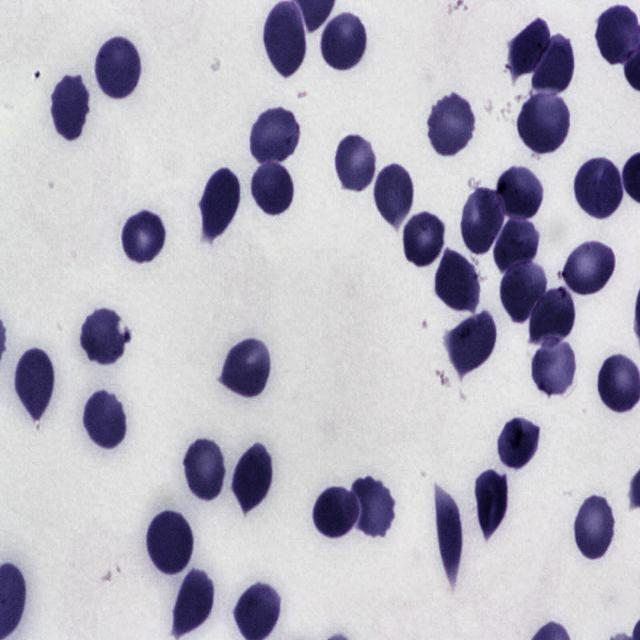red blood cell: (558, 236, 620, 297), (424, 92, 478, 158), (445, 311, 498, 376), (460, 183, 508, 254), (518, 91, 570, 156), (220, 337, 272, 402), (146, 509, 195, 577), (263, 0, 305, 79), (571, 492, 617, 562), (81, 388, 129, 452), (94, 36, 142, 100), (320, 10, 368, 72), (80, 306, 128, 368), (172, 568, 215, 637), (200, 166, 240, 240), (249, 106, 300, 164), (530, 337, 579, 397), (232, 444, 274, 514), (434, 249, 480, 312), (17, 348, 56, 422), (51, 72, 92, 142), (576, 159, 622, 221), (434, 486, 463, 584), (333, 132, 378, 194), (373, 162, 415, 228), (501, 262, 547, 322), (183, 437, 226, 501), (352, 475, 395, 539), (312, 484, 361, 540), (475, 464, 509, 543), (596, 5, 640, 64), (250, 160, 295, 217), (498, 413, 541, 472), (120, 211, 166, 266), (402, 211, 446, 267), (497, 169, 543, 222), (493, 221, 538, 275), (508, 22, 548, 80), (530, 290, 574, 340), (534, 35, 574, 90)
